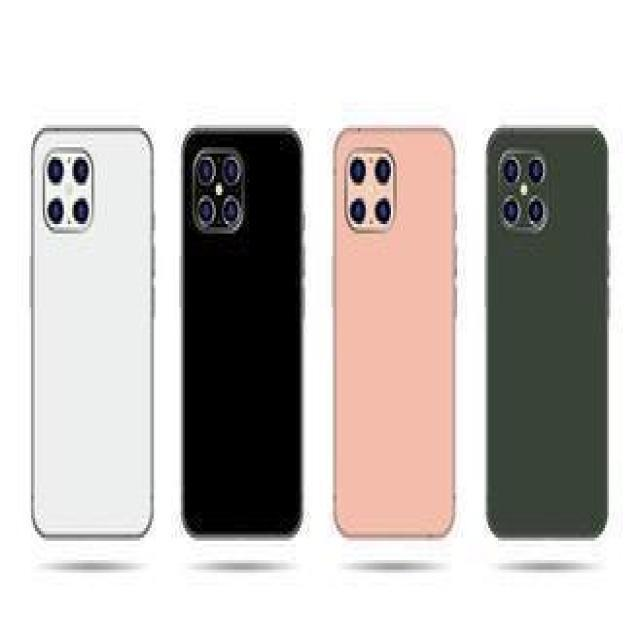lens: (493, 152, 548, 235), (193, 150, 246, 233), (344, 150, 396, 230), (43, 148, 92, 229)
phone: (30, 123, 155, 539), (487, 125, 610, 541), (181, 127, 303, 543), (333, 125, 455, 541)
